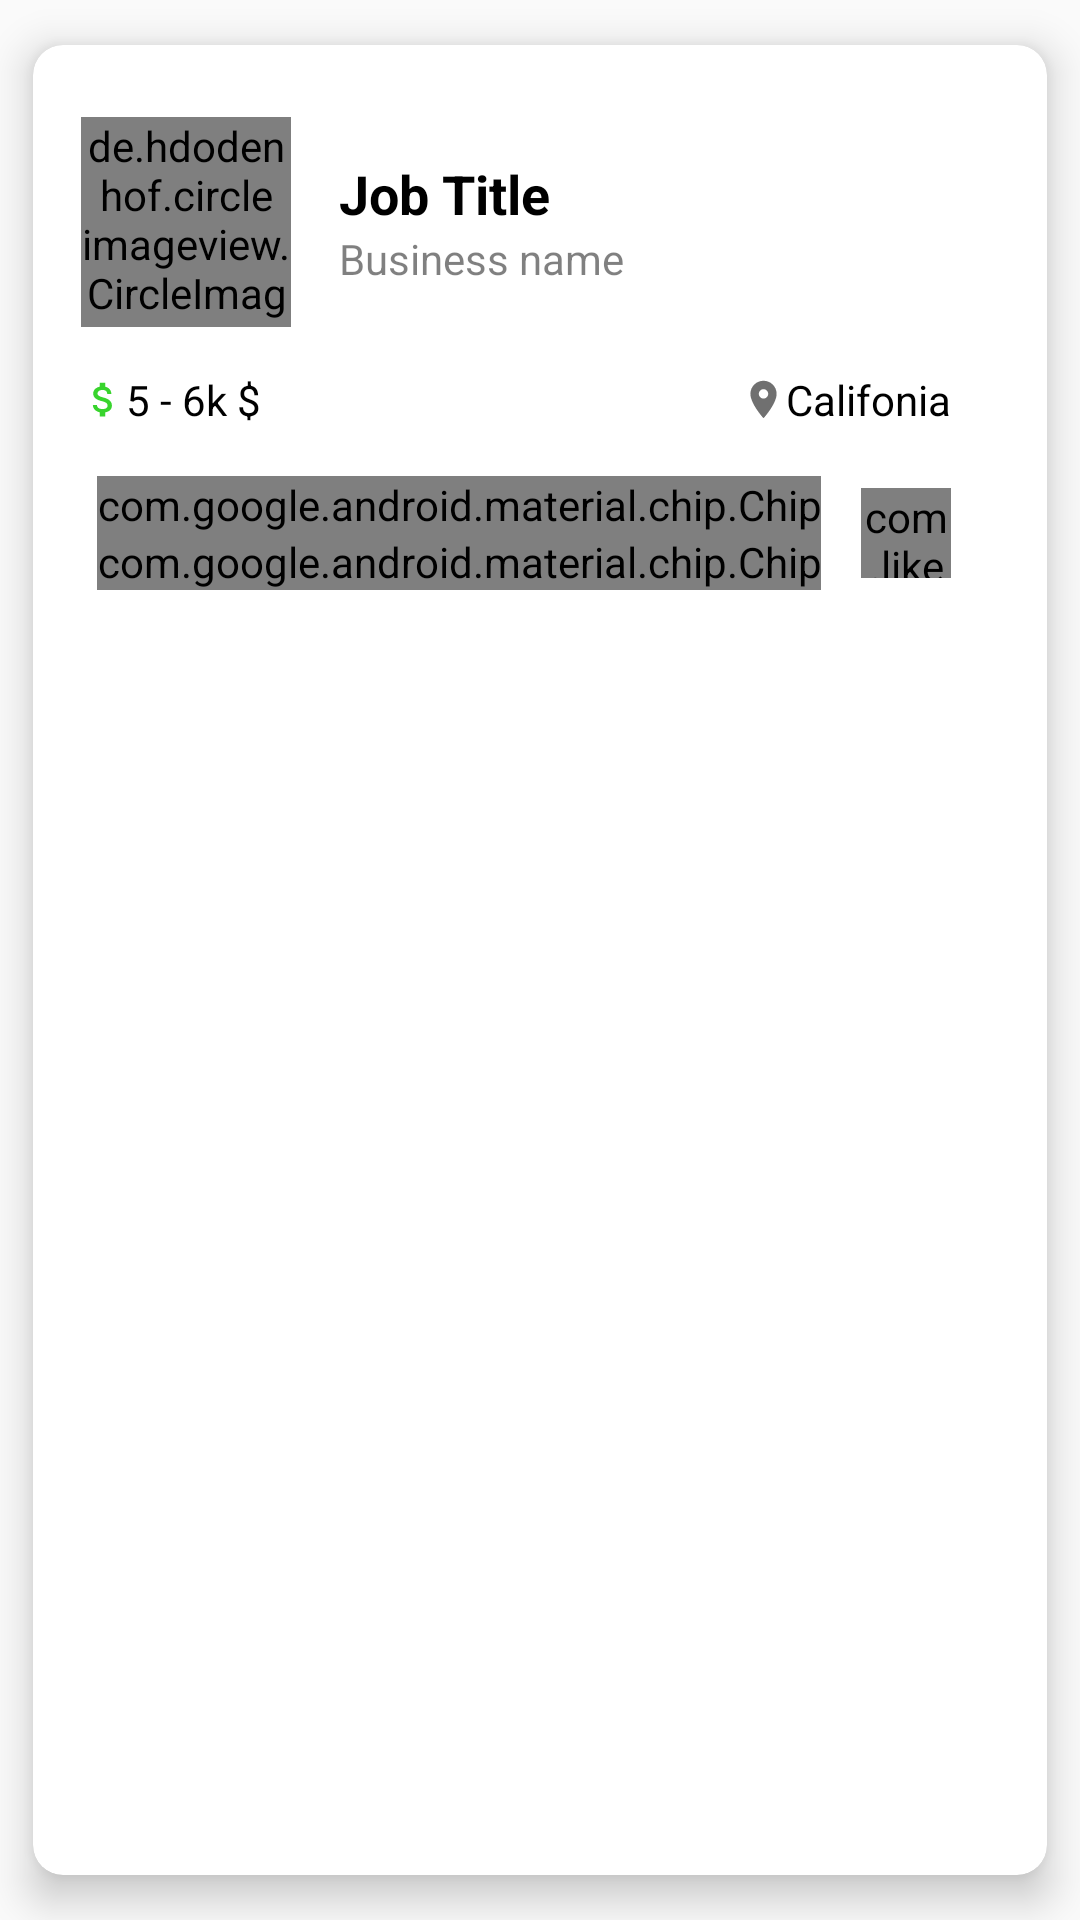

Icons on this 1080×1920 Android screen, each with the point to tap as (x=x, y=y):
location: (x=763, y=399)
money: (x=102, y=399)
